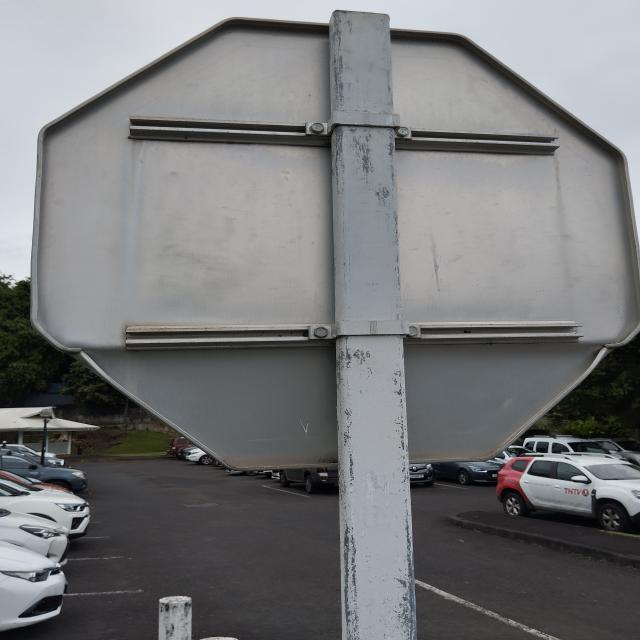Panneau: (40, 24, 640, 471)
